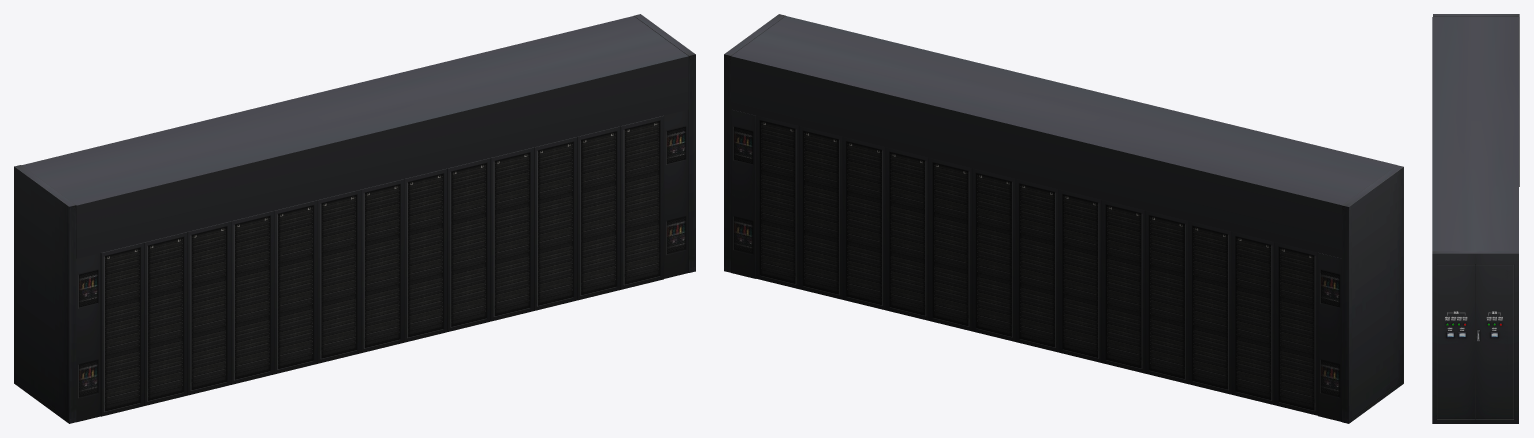
The model's file is ITM.glb.
3 renders of one model, left to right at view 1: azimuth 30°, elevation 25°; view 2: azimuth 150°, elevation 25°; view 3: azimuth 270°, elevation 25°, orthographic. The views are drawn at different scales.
Visible parts, largest first — view 1: object 18, polySurface3, pCube040, pCube029, pCube036, pCube038, pCube27, pCube031, pCube032, pCube034, pCube035, pCube030 (+6 smaller); view 2: object 18, polySurface3, pCube029, pCube033, pCube034, pCube036, pCube037, pCube038, pCube27, pCube030, pCube032, pCube031 (+6 smaller); view 3: object 18, polySurface89, polySurface3.
Boxes of the visible parts, left/top/right/bottom form: object 18: left=22, top=16, right=688, bottom=258; polySurface3: left=14, top=165, right=76, bottom=423; pCube040: left=100, top=242, right=144, bottom=416; pCube029: left=577, top=126, right=620, bottom=300; pCube036: left=274, top=200, right=317, bottom=374; pCube038: left=187, top=221, right=230, bottom=395; pCube27: left=620, top=115, right=663, bottom=289; pCube031: left=490, top=147, right=533, bottom=321; pCube032: left=447, top=158, right=490, bottom=331; pCube034: left=361, top=179, right=404, bottom=353; pCube035: left=317, top=189, right=360, bottom=363; pCube030: left=534, top=137, right=577, bottom=310; object 18: left=731, top=16, right=1396, bottom=258; polySurface3: left=1342, top=165, right=1403, bottom=423; pCube029: left=799, top=126, right=842, bottom=299; pCube033: left=972, top=168, right=1015, bottom=341; pCube034: left=1015, top=179, right=1058, bottom=352; pCube036: left=1102, top=200, right=1145, bottom=373; pCube037: left=1145, top=210, right=1188, bottom=384; pCube038: left=1188, top=221, right=1231, bottom=394; pCube27: left=756, top=115, right=799, bottom=288; pCube030: left=842, top=137, right=885, bottom=310; pCube032: left=929, top=158, right=972, bottom=331; pCube031: left=886, top=147, right=928, bottom=320; object 18: left=1432, top=17, right=1518, bottom=250; polySurface89: left=1432, top=251, right=1518, bottom=423; polySurface3: left=1433, top=14, right=1519, bottom=186.
Bounding box in the file's own units: 679 × 225 × 104.
Materials: 1 (1 with a texture image).
